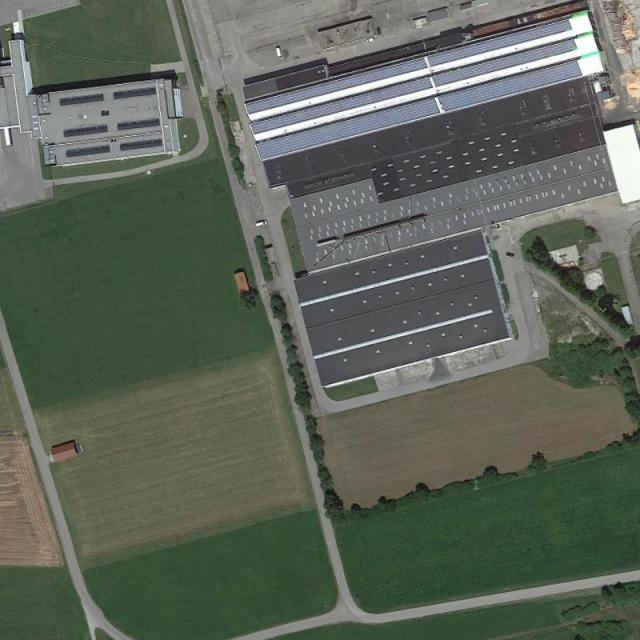vehicle: (276, 47, 283, 62), (256, 219, 267, 228), (263, 243, 273, 250), (366, 38, 374, 44), (506, 252, 514, 257), (376, 28, 382, 34)
